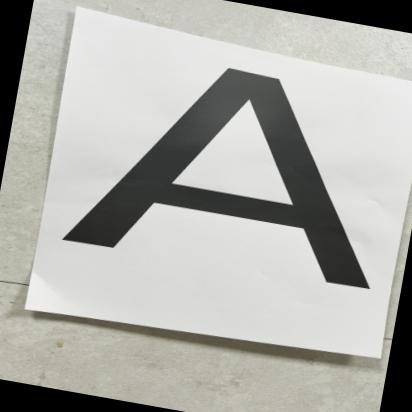seat: (61, 37, 412, 306)
